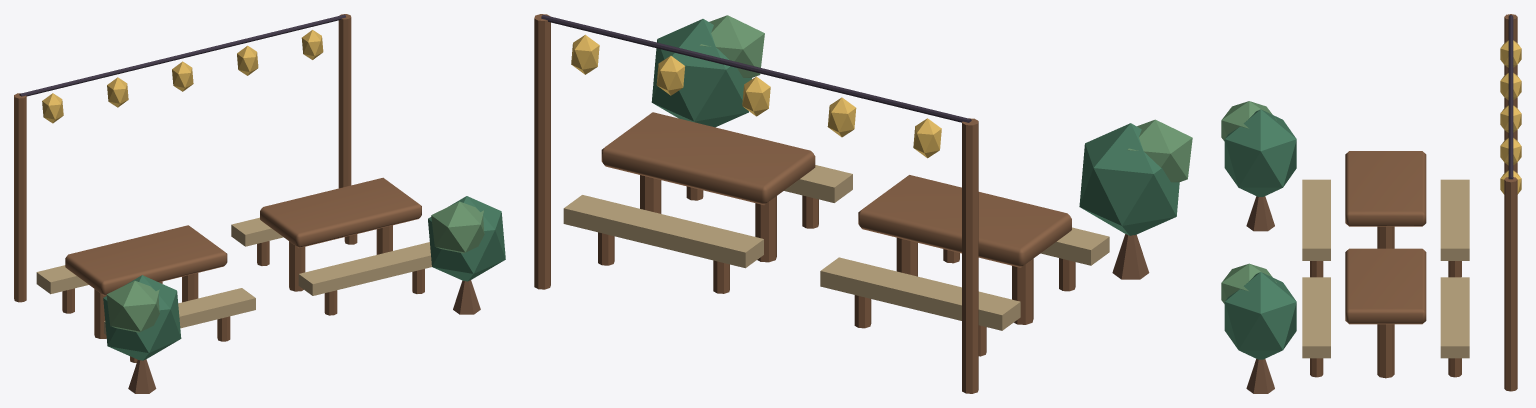
File: beerGarden.glb
3 renders of one model, left to right at view 1: azimuth 30°, elevation 25°; view 2: azimuth 150°, elevation 25°; view 3: azimuth 270°, elevation 25°, orthographic. The views are drawn at different scales.
Parts seen in each view (by area): view 1: Cube.043, Cube.040, Cube.044, Icosphere.071, Icosphere.073, Cone.156, Cone.158, Icosphere.074, Icosphere.072, Cube.041, Cone.160, Cube.042 (+12 smaller); view 2: Cube.043, Cube.040, Icosphere.071, Cube.045, Icosphere.073, Cube.042, Cone.156, Cone.158, Cone.160, Icosphere.072, Icosphere.074, Cube.041 (+11 smaller); view 3: Cube.043, Cube.040, Icosphere.071, Icosphere.073, Cone.158, Cube.042, Cube.045, Cube.041, Cube.044, Cone.160, Cone.155, Icosphere.072 (+9 smaller).
Part boxes in pixels (x1,y1,x2,y2): Cube.043: (260, 177, 421, 247); Cube.040: (65, 225, 227, 295); Cube.044: (298, 242, 431, 295); Icosphere.071: (103, 275, 181, 360); Icosphere.073: (428, 196, 505, 281); Cone.156: (14, 93, 26, 302); Cone.158: (338, 14, 351, 188); Icosphere.074: (431, 201, 484, 253); Icosphere.072: (106, 281, 159, 332); Cube.041: (104, 288, 255, 334); Cone.160: (19, 14, 345, 96); Cube.042: (36, 265, 88, 294); Cube.043: (601, 112, 815, 204); Cube.040: (858, 175, 1071, 267); Icosphere.071: (1079, 123, 1179, 235); Cube.045: (563, 195, 763, 268); Icosphere.073: (651, 19, 751, 127); Cube.042: (820, 257, 1020, 330); Cone.156: (962, 118, 978, 393); Cone.158: (534, 14, 550, 289); Cone.160: (541, 15, 971, 122); Icosphere.072: (1127, 119, 1192, 182); Icosphere.074: (700, 15, 764, 77); Cube.041: (1040, 227, 1109, 265); Cube.043: (1345, 248, 1426, 324); Cube.040: (1345, 151, 1426, 226); Icosphere.071: (1224, 109, 1296, 196); Icosphere.073: (1224, 272, 1296, 359); Cone.158: (1504, 177, 1517, 391); Cube.042: (1440, 179, 1469, 260); Cube.045: (1440, 277, 1469, 358); Cube.041: (1302, 179, 1330, 260); Cube.044: (1302, 277, 1330, 358); Cone.160: (1508, 15, 1513, 179); Cone.155: (1377, 324, 1394, 378); Icosphere.072: (1221, 101, 1276, 141).
Bounding box in the file's own units: 2.45 × 1.21 × 1.56.
